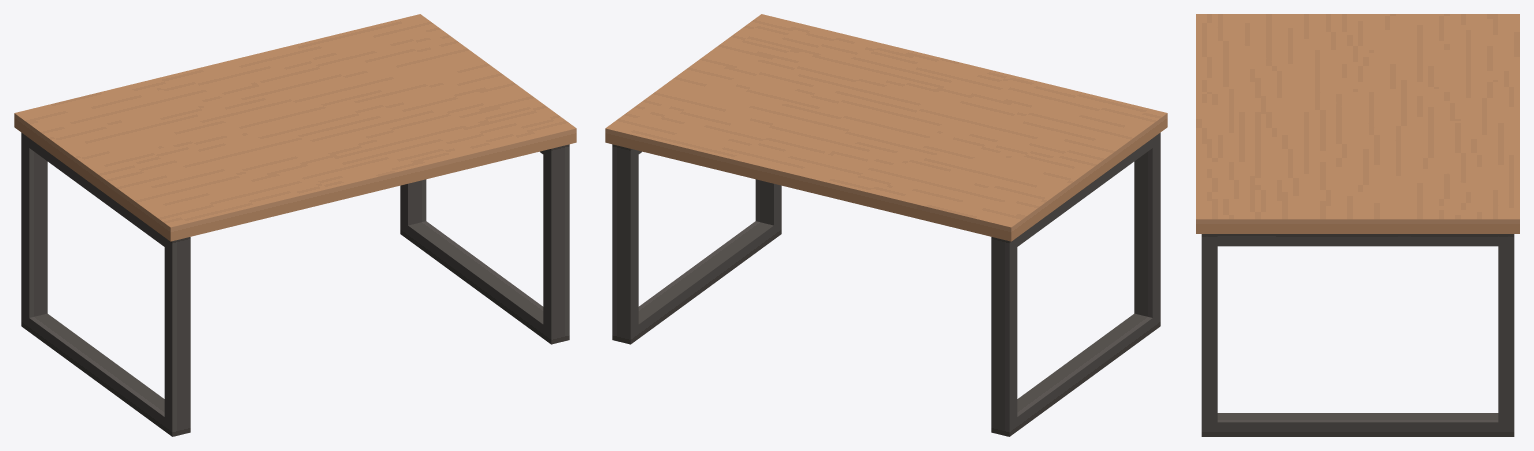
Rendered from desk.glb.
The picture shows the model from 3 angles, left to right: view 1: azimuth 30°, elevation 25°; view 2: azimuth 150°, elevation 25°; view 3: azimuth 270°, elevation 25°; orthographic projection. The views are drawn at different scales.
Parts seen in each view (by area): view 1: desk; view 2: desk; view 3: desk.
Part boxes in pixels (bbox=[...]): desk: bbox=[14, 14, 576, 436]; desk: bbox=[605, 14, 1167, 436]; desk: bbox=[1196, 14, 1519, 436].
Size of the model in its own units: 1.5 by 0.75 by 1.
1 material, 1 textured.
